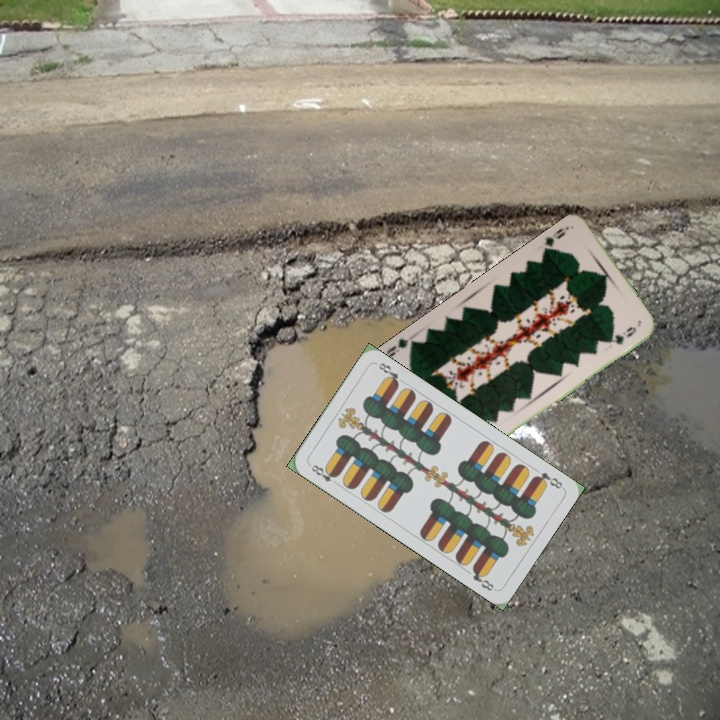E8: (305, 460, 341, 488), (529, 468, 565, 492)
G9: (540, 224, 568, 257)
